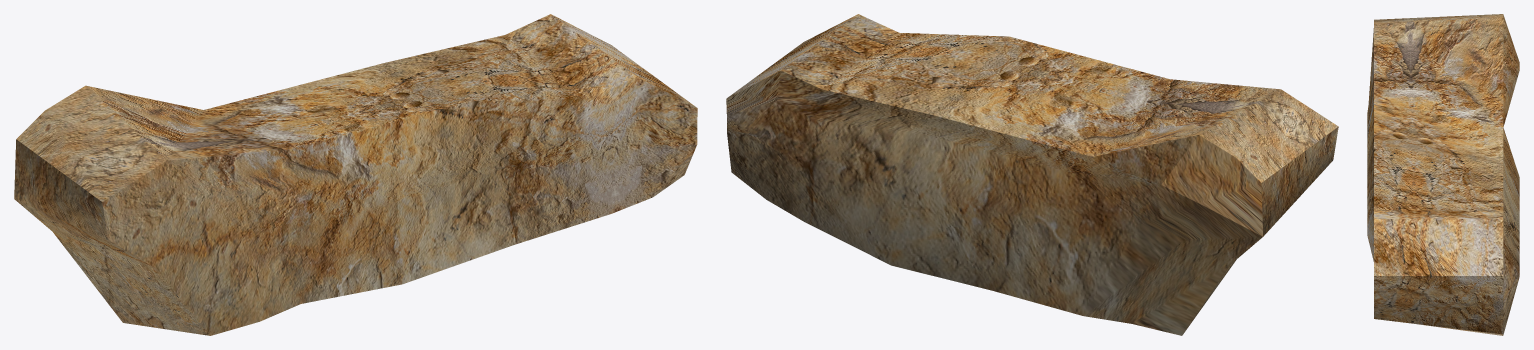
Rendered from Stone.fbx.
The picture shows the model from 3 angles, left to right: view 1: azimuth 30°, elevation 25°; view 2: azimuth 150°, elevation 25°; view 3: azimuth 270°, elevation 25°; orthographic projection. The views are drawn at different scales.
Visible parts, largest first — view 1: pCube1; view 2: pCube1; view 3: pCube1.
Part boxes in pixels (x1,y1,x2,y2): pCube1: [14, 14, 697, 335]; pCube1: [726, 14, 1338, 335]; pCube1: [1367, 14, 1519, 335].
Bounding box in the file's own units: 3.23 × 1.23 × 0.951.
